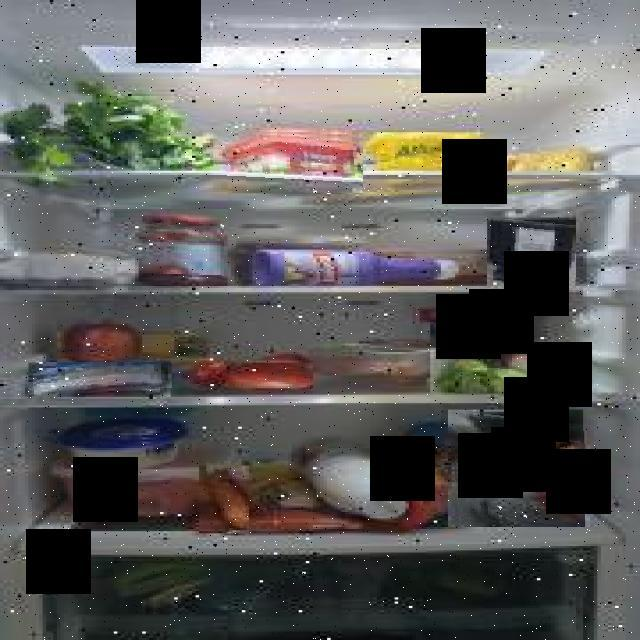apple: (57, 319, 142, 370)
butter: (213, 129, 363, 193)
carrot: (199, 465, 249, 533)
cheese: (31, 362, 172, 397)
grated_cheese: (450, 410, 585, 527)
leek: (432, 348, 581, 394)
marmelade: (137, 211, 236, 286), (487, 217, 576, 286)
tomato: (227, 363, 313, 388), (186, 360, 244, 387)
